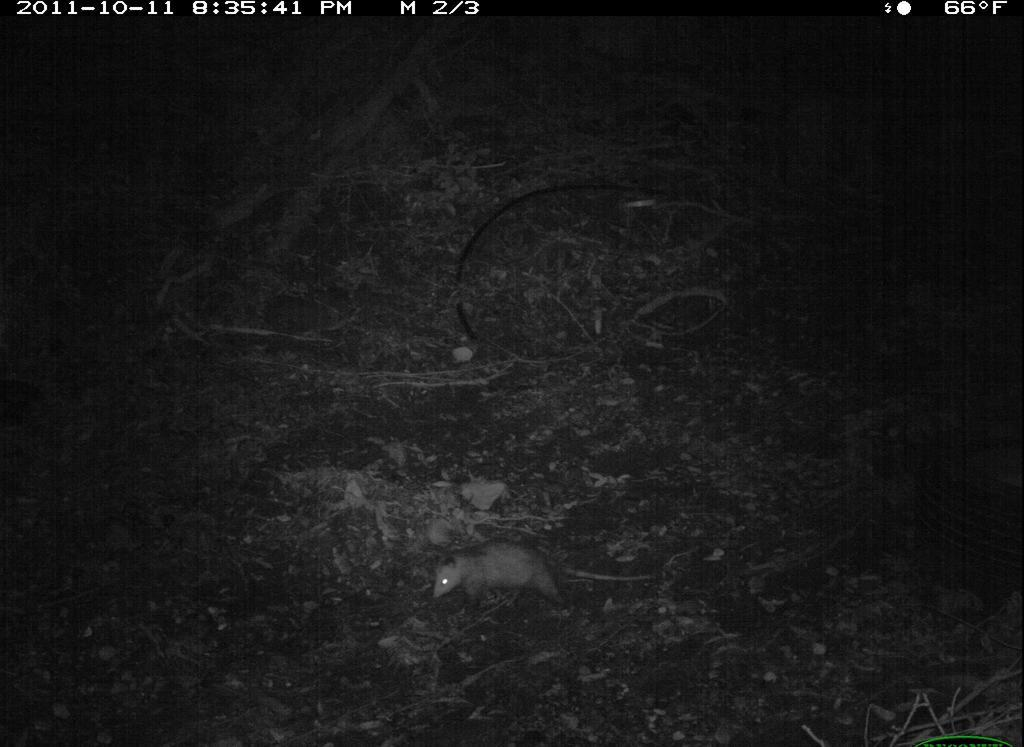opossum: (425, 538, 658, 621)
